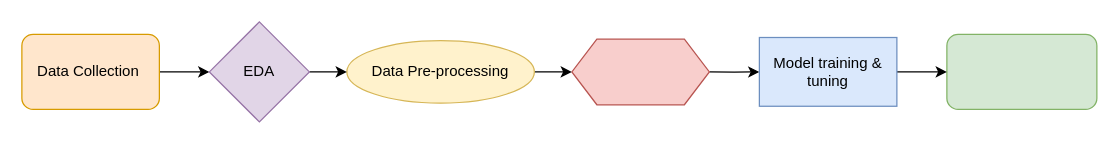
Some shapes in this 1119 by 144 pixel diagram are drawn without their labels. The centre of each missing label's shape, as x and y in pixels:
"Model evaluation" goes at point 1021,71.
"Model Selection" goes at point 640,71.
